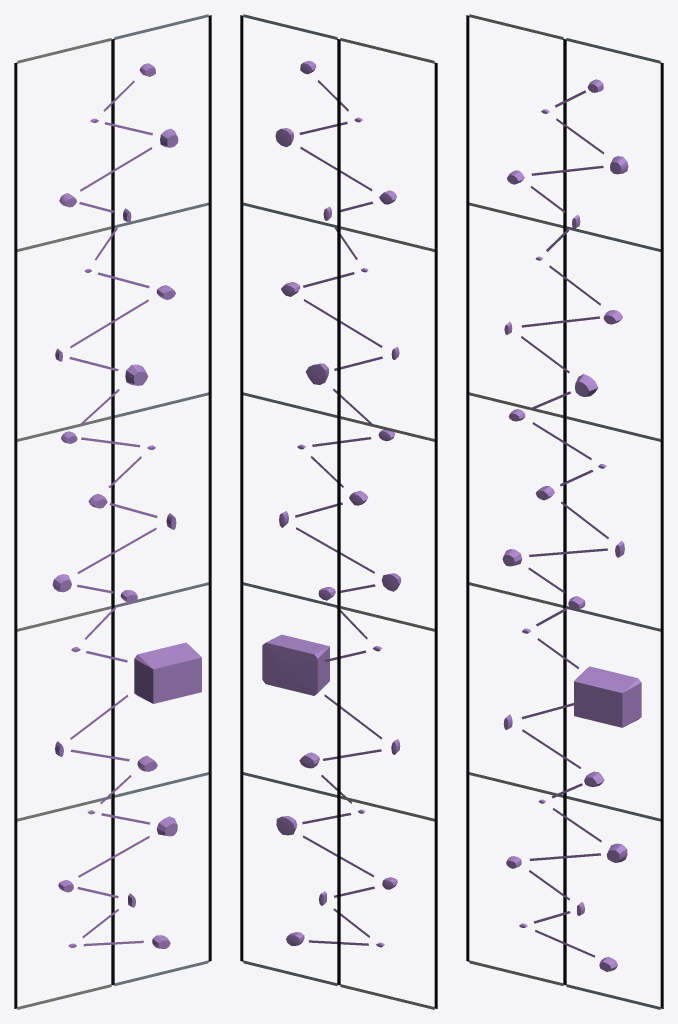
File: tt_climb_lead_routes_e.glb
3 renders of one model, left to right at view 1: azimuth 30°, elevation 25°; view 2: azimuth 150°, elevation 25°; view 3: azimuth 330°, elevation 25°, orthographic.
Parts seen in each view (by area): view 1: Grid_Mullion, Holds_PU, Route_Tape, Grid_Course_L, Grid_Course_R; view 2: Grid_Mullion, Holds_PU, Route_Tape, Grid_Course_L, Grid_Course_R; view 3: Grid_Mullion, Holds_PU, Route_Tape, Grid_Course_R, Grid_Course_L.
Part boxes in pixels (box(x1,y1,x2,y2)): Grid_Mullion: box(14, 15, 211, 1008); Holds_PU: box(52, 63, 201, 948); Route_Tape: box(69, 80, 157, 946); Grid_Course_L: box(17, 38, 111, 1009); Grid_Course_R: box(114, 14, 208, 986); Grid_Mullion: box(240, 15, 437, 1008); Holds_PU: box(262, 61, 401, 947); Route_Tape: box(295, 80, 382, 945); Grid_Course_L: box(340, 38, 434, 1009); Grid_Course_R: box(243, 14, 337, 986); Grid_Mullion: box(466, 15, 663, 1008); Holds_PU: box(502, 79, 641, 971); Route_Tape: box(521, 90, 608, 957); Grid_Course_R: box(566, 38, 660, 1009); Grid_Course_L: box(469, 14, 563, 986).
Size of what is drawn, in the model's own units: 2.5 by 11.5 by 0.364.
Materials: 5 (2 with a texture image).
